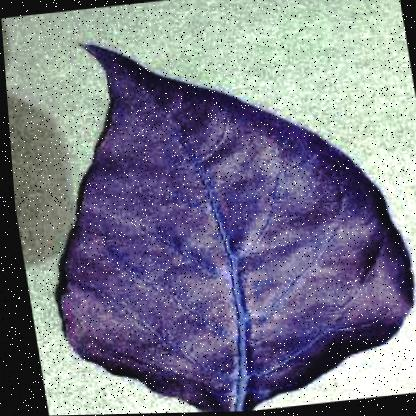Healthy: (10, 9, 415, 415)
